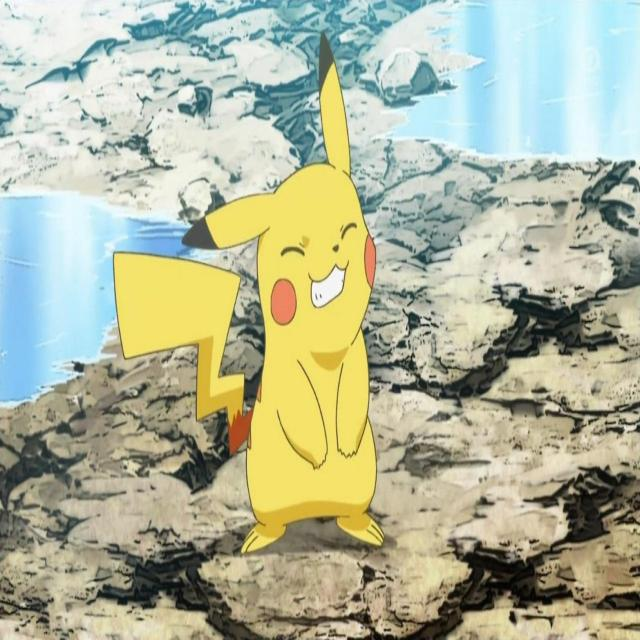pikachu: (113, 28, 384, 554)
